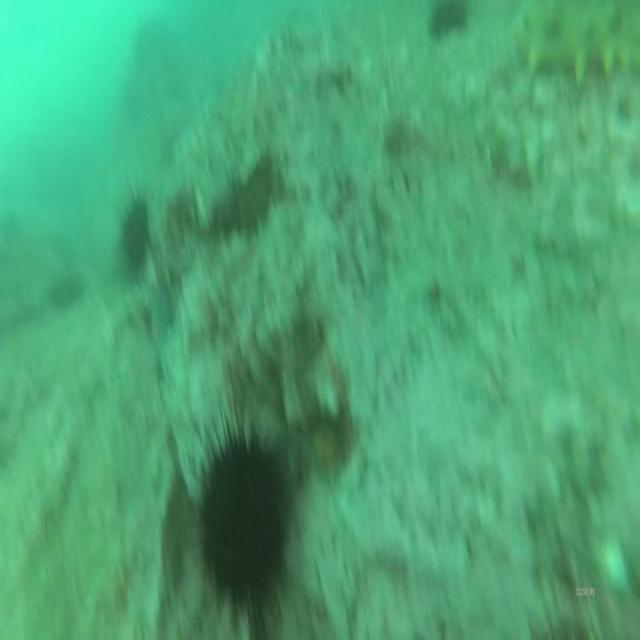echinus: (182, 403, 295, 635), (116, 182, 151, 278), (424, 0, 471, 49)
holothurian: (509, 0, 640, 103)
starfish: (146, 281, 172, 386)
